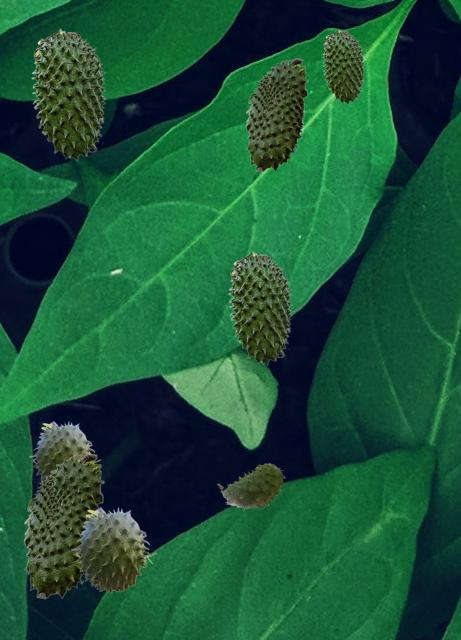guyabano: (23, 453, 103, 598), (31, 28, 106, 160), (71, 506, 156, 592), (228, 251, 292, 364), (245, 58, 307, 171), (29, 420, 100, 480), (217, 463, 284, 510), (322, 29, 364, 103)
